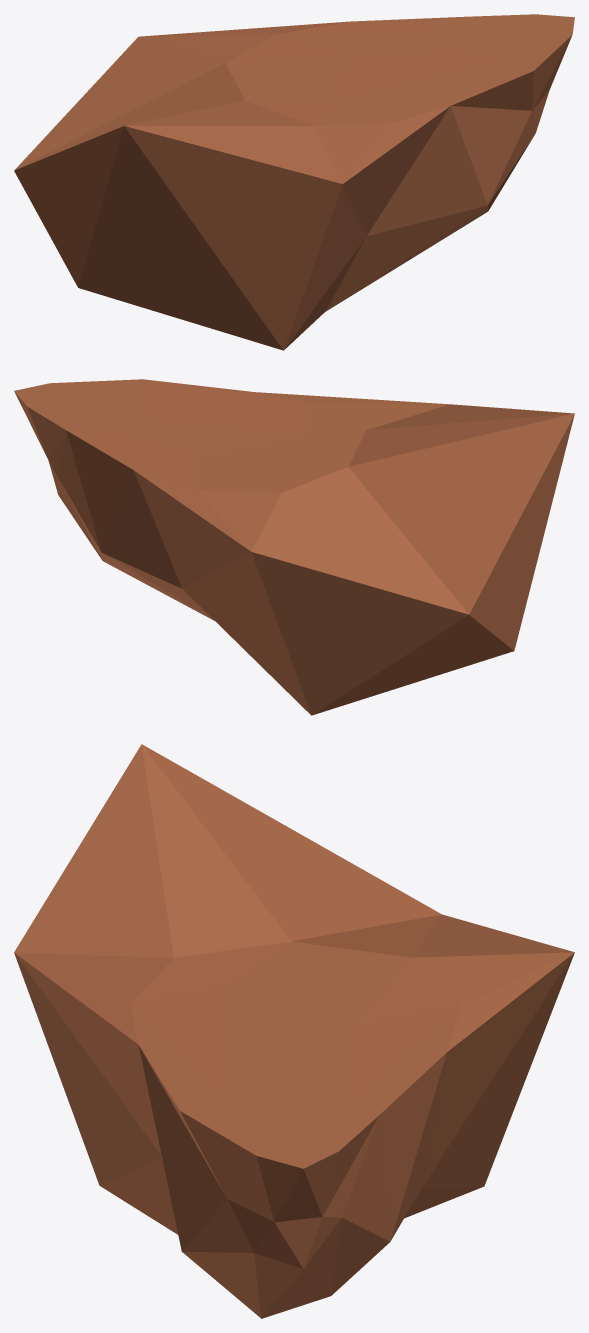
Rendered from platform-03.fbx.
3 renders of one model, top to bottom at view 1: azimuth 30°, elevation 25°; view 2: azimuth 150°, elevation 25°; view 3: azimuth 270°, elevation 25°, orthographic. The views are drawn at different scales.
Visible parts, largest first — view 1: platform03; view 2: platform03; view 3: platform03.
Boxes of the visible parts, left/top/right/bottom form: platform03: left=14, top=14, right=574, bottom=350; platform03: left=14, top=379, right=574, bottom=715; platform03: left=14, top=744, right=574, bottom=1318.
Size of the model in its own units: 534 by 259 by 367.
